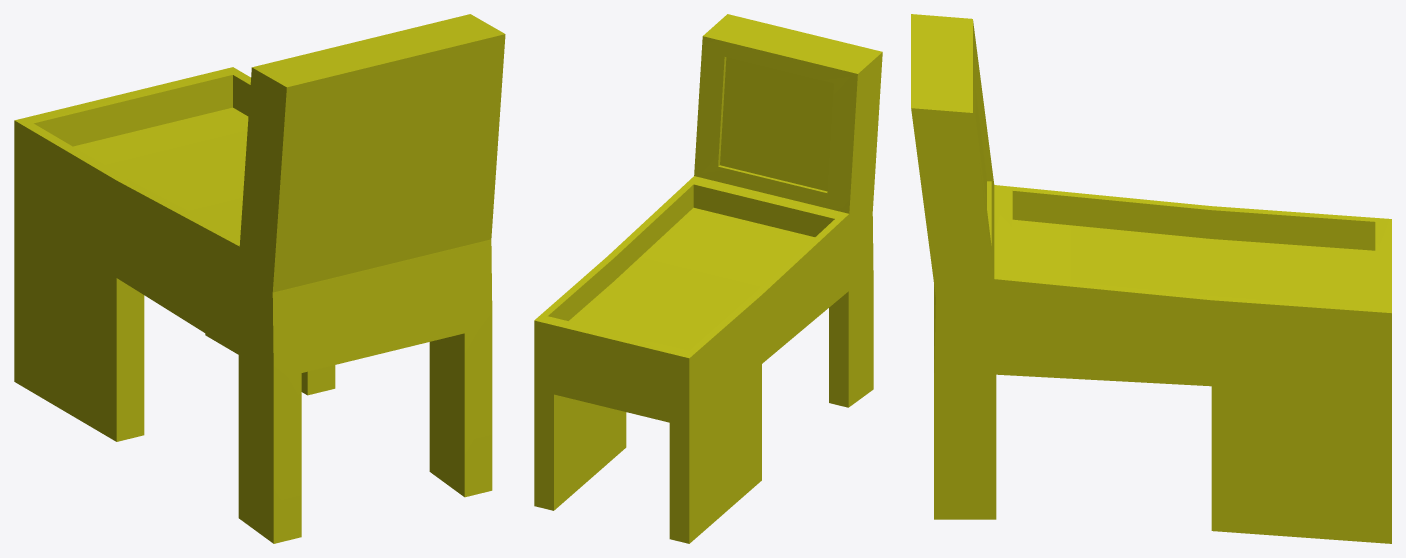
File: PinBallMachine.fbx
3 renders of one model, left to right at view 1: azimuth 30°, elevation 25°; view 2: azimuth 150°, elevation 25°; view 3: azimuth 270°, elevation 25°, orthographic. The views are drawn at different scales.
Visible parts, largest first — view 1: Box006; view 2: Box006; view 3: Box006.
Part boxes in pixels (<box>): Box006: <box>14,14,505,543</box>; Box006: <box>534,14,882,543</box>; Box006: <box>911,14,1391,543</box>.
Bounding box in the file's own units: 34.45 × 74.34 × 74.33.
